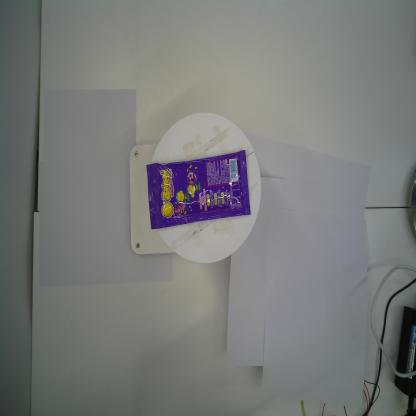Candy: (146, 150, 251, 230)
